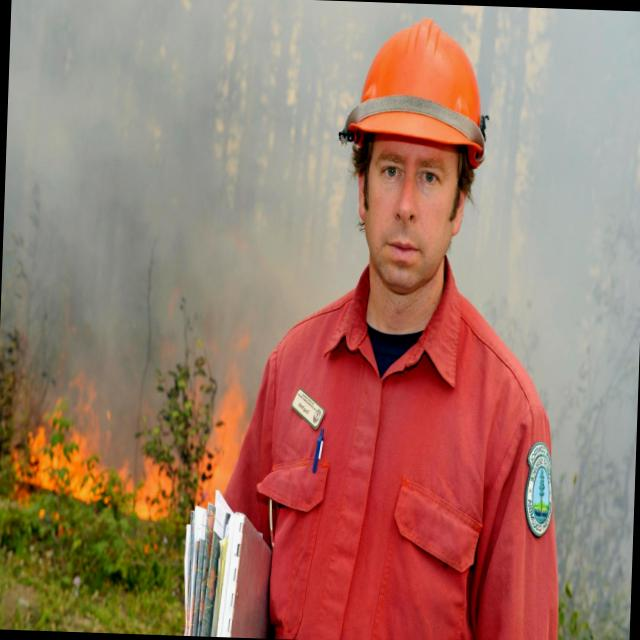helmet: (338, 24, 491, 156)
no-vest: (223, 271, 563, 640)
